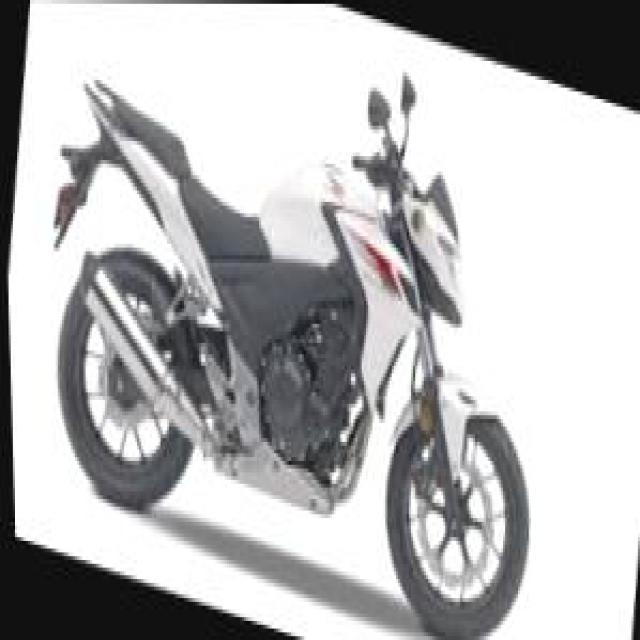CB500F: (15, 38, 565, 636)
